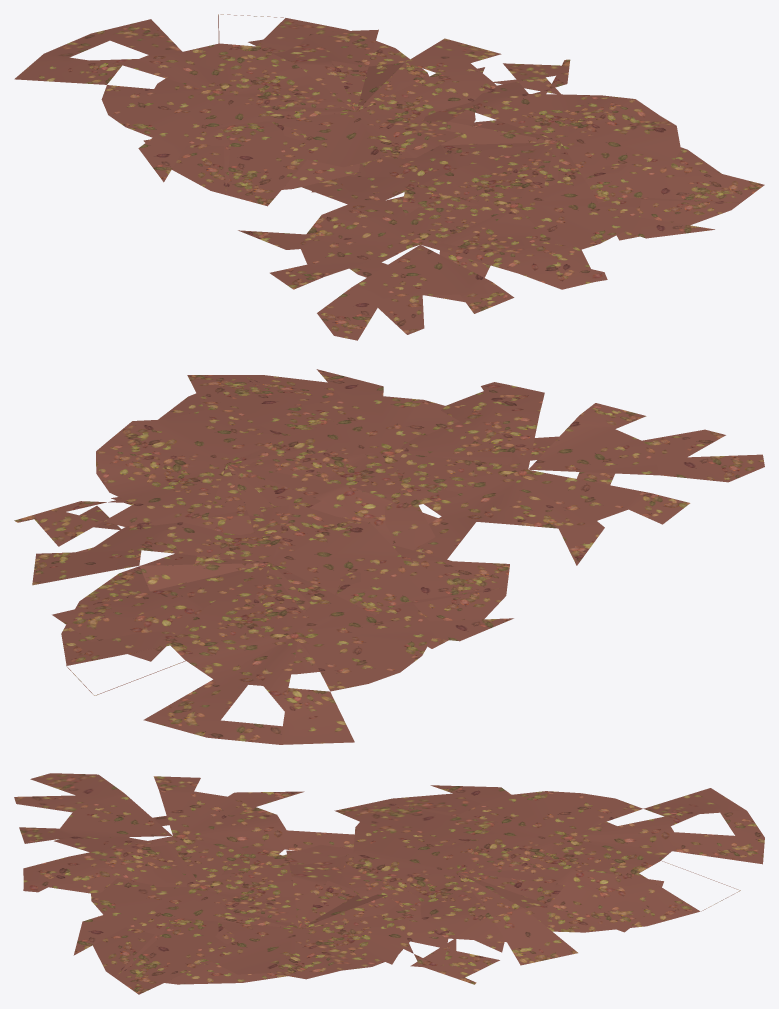
The model's file is SM_ScateredLeaves.fbx.
3 renders of one model, top to bottom at view 1: azimuth 30°, elevation 25°; view 2: azimuth 150°, elevation 25°; view 3: azimuth 270°, elevation 25°, orthographic. The views are drawn at different scales.
Parts seen in each view (by area): view 1: SM_ScateredLeaves_LOD0; view 2: SM_ScateredLeaves_LOD0; view 3: SM_ScateredLeaves_LOD0.
Part boxes in pixels (left/top/right/bottom): SM_ScateredLeaves_LOD0: left=14, top=14, right=764, bottom=340; SM_ScateredLeaves_LOD0: left=14, top=369, right=764, bottom=744; SM_ScateredLeaves_LOD0: left=14, top=773, right=764, bottom=994.
Size of the model in its own units: 459 by 655 by 16.68.
